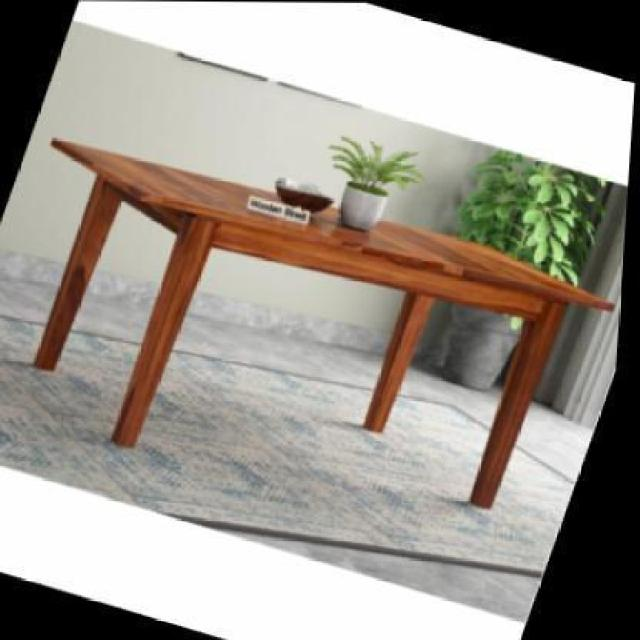tables: (32, 136, 614, 510)
